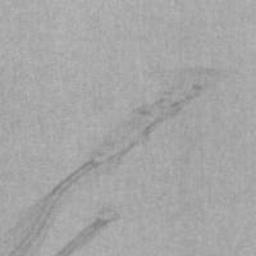Water spot: (0, 67, 214, 256), (51, 206, 120, 256)
